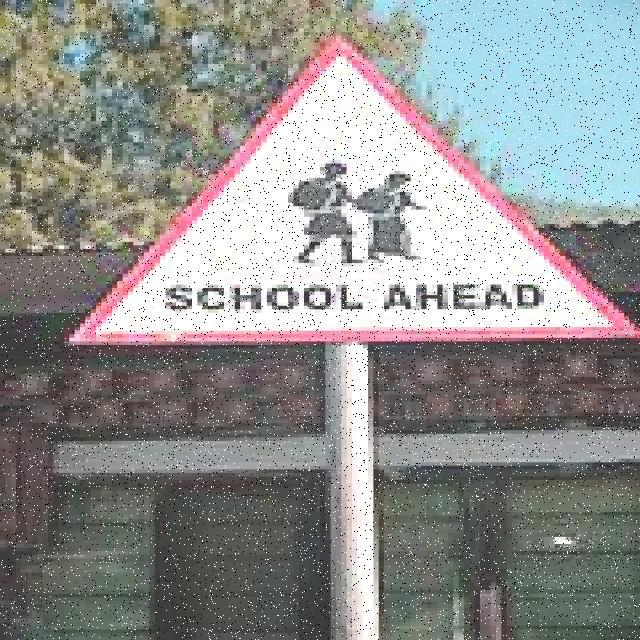Traffic sign: (58, 29, 640, 358)
